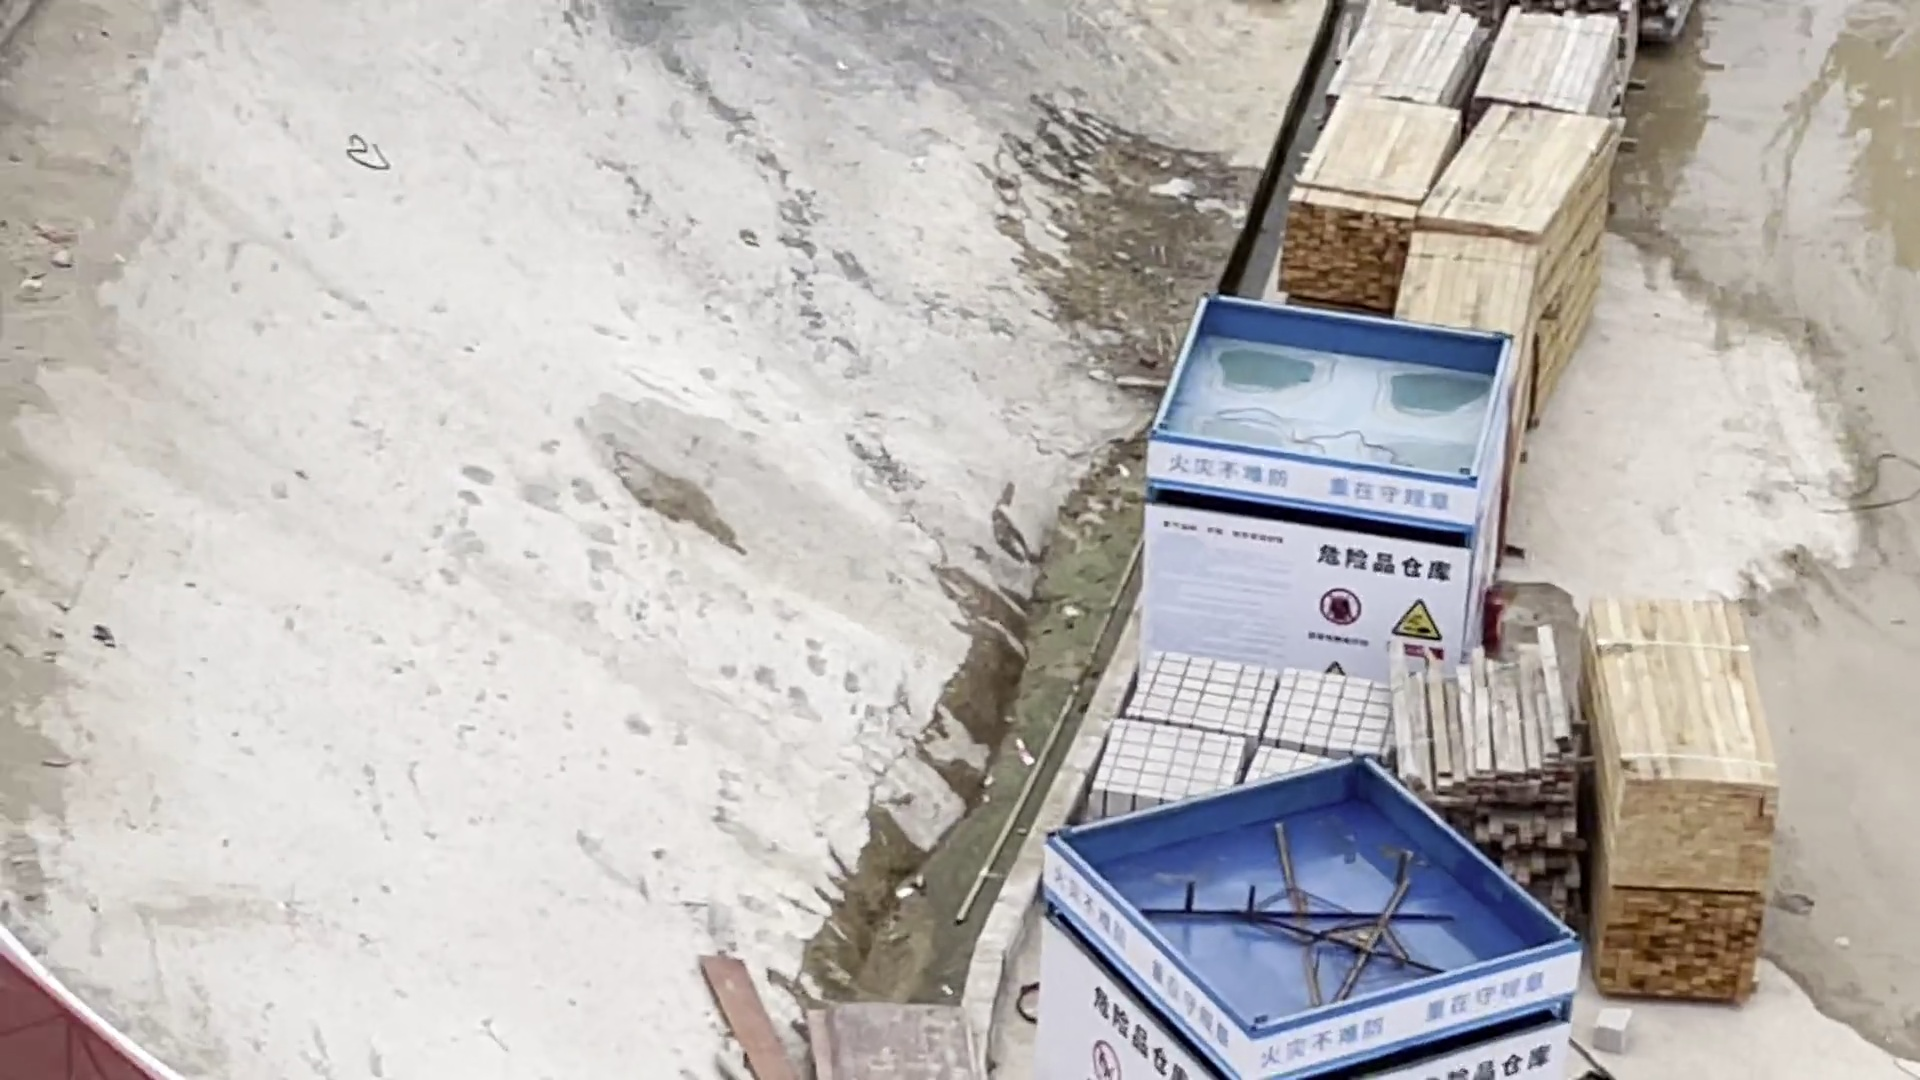slogan: (1044, 742, 1597, 1080), (1145, 231, 1553, 667)
wood: (1464, 109, 1651, 439), (1589, 600, 1782, 914), (1377, 638, 1601, 887), (1274, 88, 1437, 286), (1597, 880, 1766, 1015), (1472, 1, 1629, 121), (1400, 243, 1538, 372), (1331, 3, 1480, 111)
